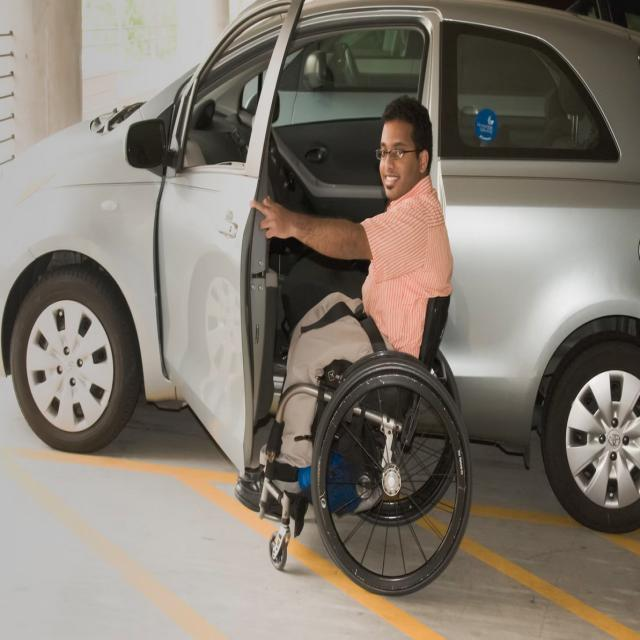wheelchairs: (241, 280, 475, 596)
